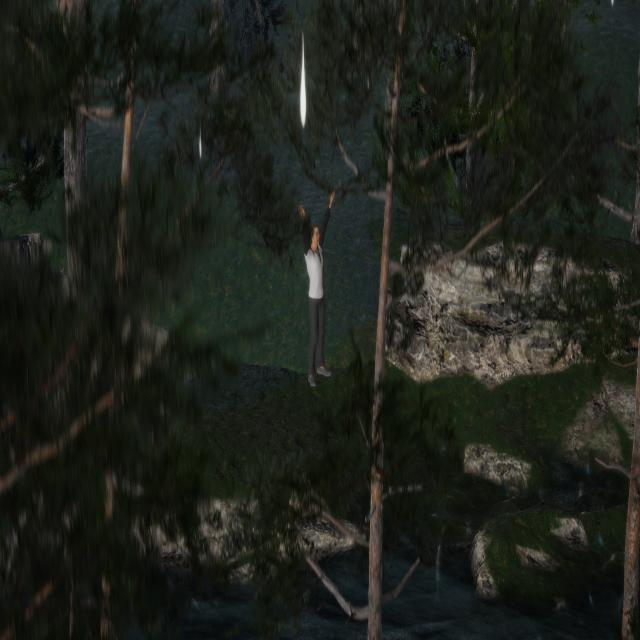Human: (294, 176, 344, 410)
